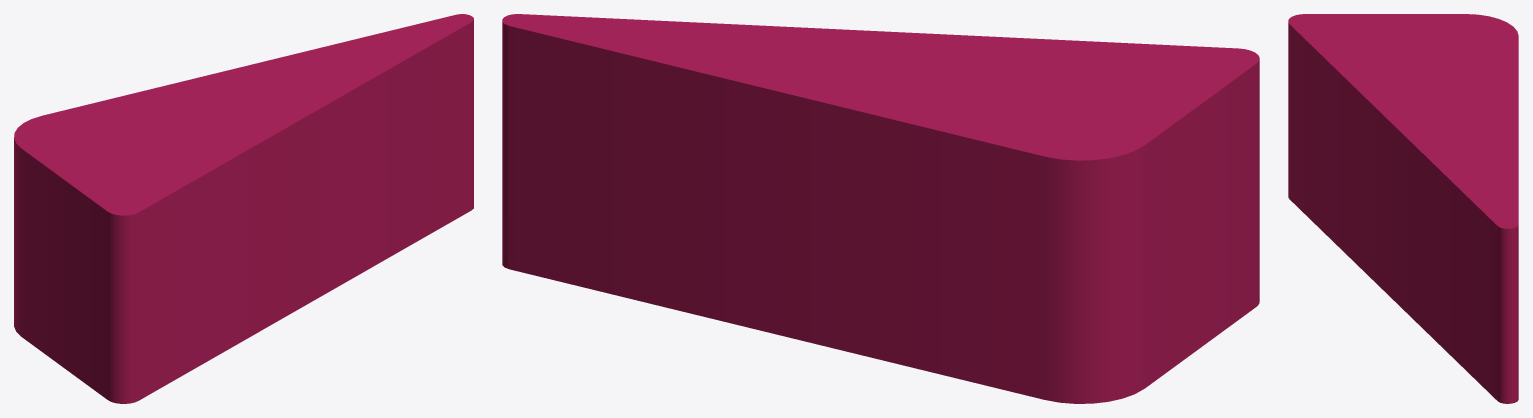
Rendered from Mesa Esquinera.FBX.
3 views of the same model, side by side, from view 1: azimuth 30°, elevation 25°; view 2: azimuth 150°, elevation 25°; view 3: azimuth 270°, elevation 25° (orthographic). The views are drawn at different scales.
Parts seen in each view (by area): view 1: Mueble 3; view 2: Mueble 3; view 3: Mueble 3.
Boxes of the visible parts, bbox=[...] form: Mueble 3: bbox=[14, 14, 473, 403]; Mueble 3: bbox=[502, 14, 1259, 403]; Mueble 3: bbox=[1288, 14, 1518, 403].
Bounding box in the file's own units: 1.58 × 0.6 × 0.7158.
